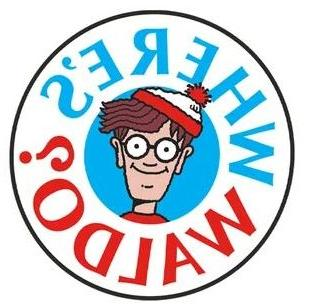waldos: (96, 82, 212, 224)
